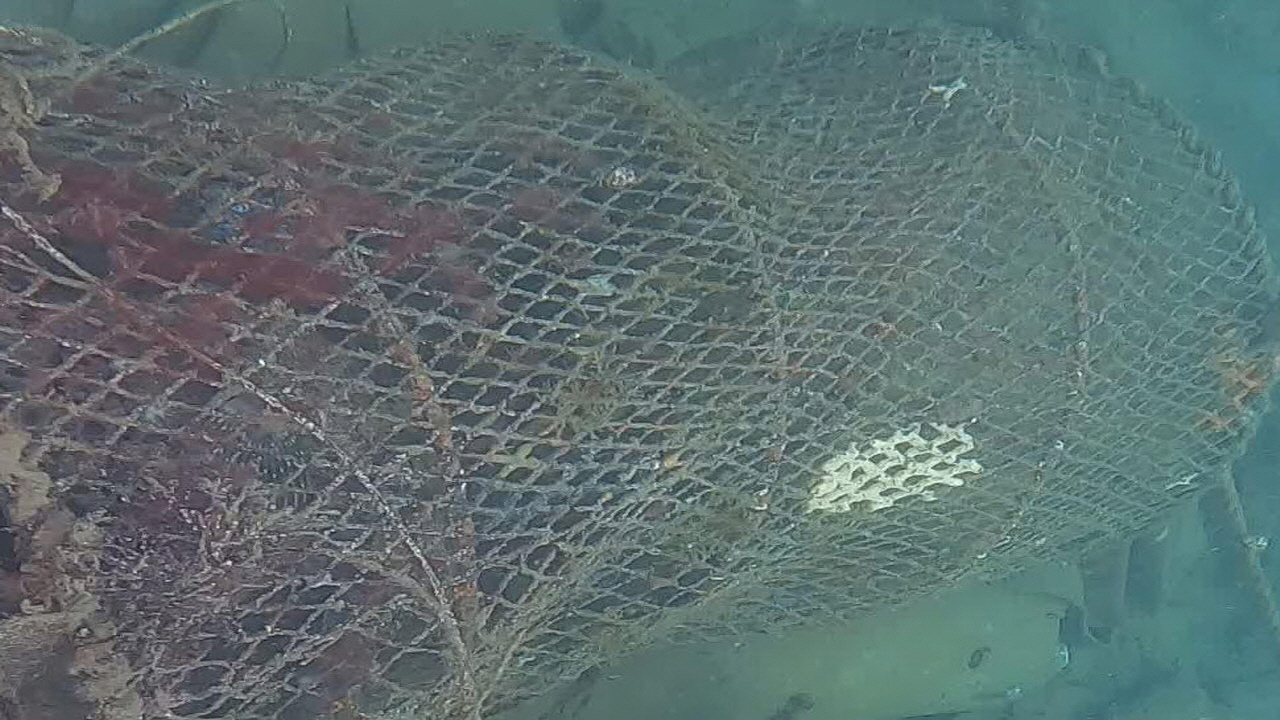spring fish trap: (0, 10, 1280, 720)
